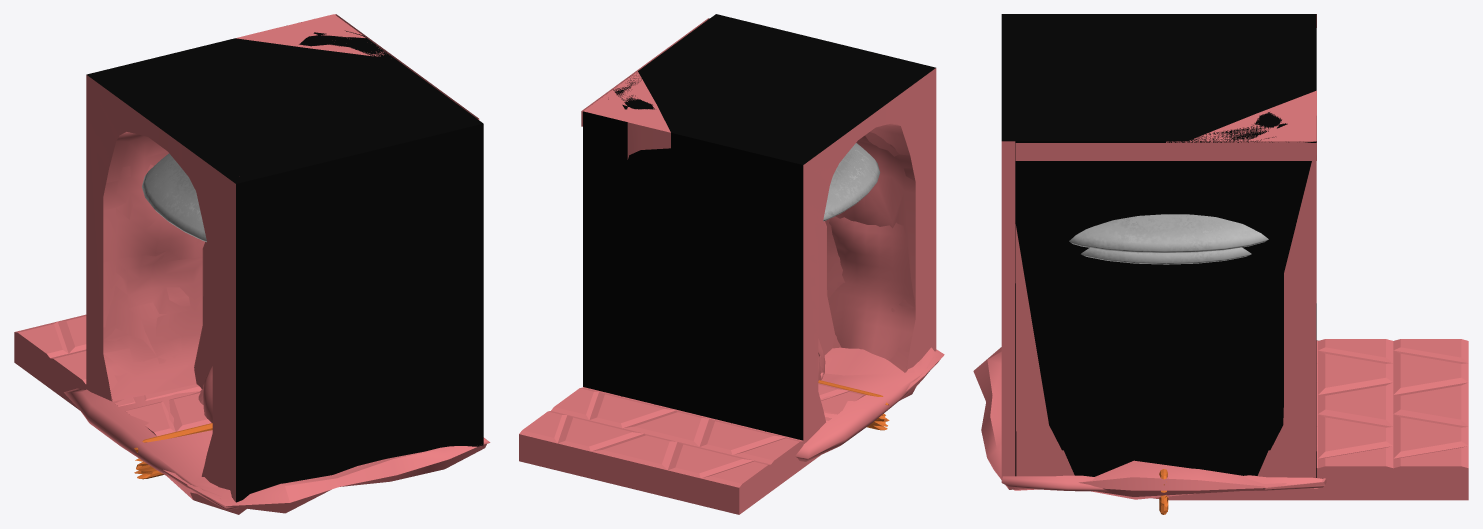
The model's file is PedroCentralizado.fbx.
3 views of the same model, side by side, from view 1: azimuth 30°, elevation 25°; view 2: azimuth 150°, elevation 25°; view 3: azimuth 270°, elevation 25° (orthographic). The views are drawn at different scales.
Parts seen in each view (by area): view 1: CaveTileSingleLightStopper, CaveTileDeadEndLightStopper, CaveTileDoubleWall, CaveTileDeadEnd, CaveTileDoubleWallLightStopper, CaveTileTurnLightStopper, AncientFloor, CaveFloorTwo, CaveFloorOne, CaveTileSingle, CaveTileTurn, MushroomUmbrellaOne (+3 smaller); view 2: CaveTileTurnLightStopper, AncientFloor, CaveTileDeadEnd, CaveTileDoubleWall, CaveTileDeadEndLightStopper, CaveFloorOne, CaveTileSingle, CaveTileCorner, CaveTileSingleLightStopper, MushroomUmbrellaOne, CaveFloorTwo, AncientWall (+1 smaller); view 3: CaveTileDeadEndLightStopper, CaveTileTurnLightStopper, AncientFloor, CaveTileDoubleWall, CaveTileDoubleWallLightStopper, CaveFloorTwo, MushroomUmbrellaThree, CaveSingleCelling, CaveTileSingle, CaveTileSingleLightStopper, CaveTileCorner, CaveFloorOne (+1 smaller).
Part boxes in pixels (left/top/right/bottom): CaveTileSingleLightStopper: left=87, top=33, right=483, bottom=502; CaveTileDeadEndLightStopper: left=87, top=31, right=476, bottom=177; CaveTileDoubleWall: left=87, top=94, right=228, bottom=476; CaveTileDeadEnd: left=86, top=92, right=229, bottom=489; CaveTileDoubleWallLightStopper: left=90, top=32, right=473, bottom=178; CaveTileTurnLightStopper: left=87, top=35, right=474, bottom=178; AncientFloor: left=14, top=314, right=211, bottom=436; CaveFloorTwo: left=157, top=444, right=486, bottom=514; CaveFloorOne: left=64, top=388, right=490, bottom=510; CaveTileSingle: left=86, top=75, right=483, bottom=507; CaveTileTurn: left=86, top=93, right=181, bottom=401; MushroomUmbrellaOne: left=142, top=153, right=206, bottom=241; CaveTileTurnLightStopper: left=583, top=18, right=929, bottom=440; AncientFloor: left=519, top=383, right=865, bottom=514; CaveTileDeadEnd: left=803, top=72, right=930, bottom=444; CaveTileDoubleWall: left=807, top=72, right=930, bottom=383; CaveTileDeadEndLightStopper: left=617, top=19, right=845, bottom=164; CaveFloorOne: left=795, top=357, right=940, bottom=461; CaveTileSingle: left=803, top=68, right=936, bottom=371; CaveTileCorner: left=583, top=71, right=670, bottom=159; CaveTileSingleLightStopper: left=641, top=14, right=935, bottom=163; MushroomUmbrellaOne: left=823, top=143, right=880, bottom=221; CaveFloorTwo: left=824, top=347, right=944, bottom=400; AncientWall: left=818, top=221, right=834, bottom=355; CaveTileDeadEndLightStopper: left=1015, top=14, right=1316, bottom=477; CaveTileTurnLightStopper: left=1015, top=14, right=1316, bottom=476; AncientFloor: left=1168, top=339, right=1468, bottom=500; CaveTileDoubleWall: left=1015, top=14, right=1316, bottom=477; CaveTileDoubleWallLightStopper: left=1015, top=14, right=1316, bottom=141; CaveFloorTwo: left=973, top=347, right=1326, bottom=499; MushroomUmbrellaThree: left=1069, top=214, right=1268, bottom=252; CaveSingleCelling: left=1015, top=143, right=1316, bottom=160; CaveTileSingle: left=1001, top=141, right=1015, bottom=478; CaveTileSingleLightStopper: left=1001, top=14, right=1316, bottom=141; CaveTileCorner: left=1189, top=90, right=1316, bottom=160; CaveFloorOne: left=1001, top=340, right=1324, bottom=491.
Bounding box in the file's own units: 477 × 602 × 658.
